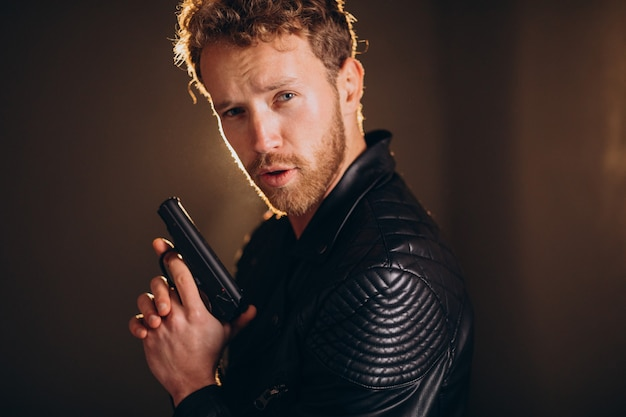gun: (156, 193, 250, 328)
